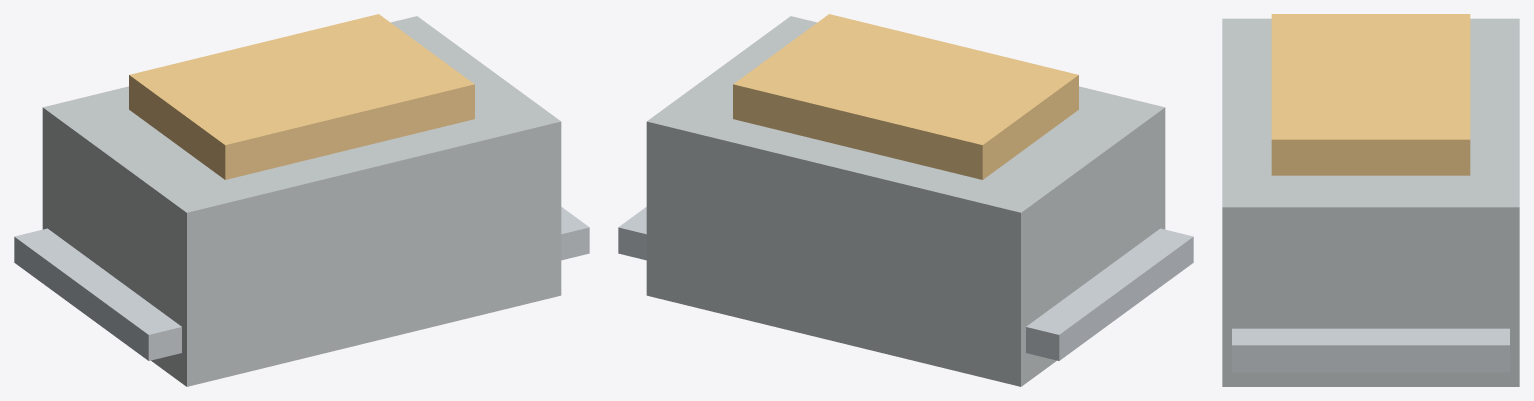
Rendered from 271_L121_LED1.glb.
3 renders of one model, left to right at view 1: azimuth 30°, elevation 25°; view 2: azimuth 150°, elevation 25°; view 3: azimuth 270°, elevation 25°, orthographic. The views are drawn at different scales.
Parts seen in each view (by area): view 1: connector_white__PSMAT__connector_white, led_amber__PSMAT__led_amber, tin__PSMAT__tin; view 2: connector_white__PSMAT__connector_white, led_amber__PSMAT__led_amber, tin__PSMAT__tin; view 3: connector_white__PSMAT__connector_white, led_amber__PSMAT__led_amber, tin__PSMAT__tin.
Part boxes in pixels (left/top/right/bottom): connector_white__PSMAT__connector_white: left=42, top=16, right=561, bottom=386; led_amber__PSMAT__led_amber: left=129, top=14, right=474, bottom=179; tin__PSMAT__tin: left=14, top=207, right=589, bottom=360; connector_white__PSMAT__connector_white: left=646, top=16, right=1165, bottom=386; led_amber__PSMAT__led_amber: left=733, top=14, right=1078, bottom=179; tin__PSMAT__tin: left=618, top=207, right=1193, bottom=360; connector_white__PSMAT__connector_white: left=1222, top=18, right=1519, bottom=386; led_amber__PSMAT__led_amber: left=1271, top=14, right=1470, bottom=175; tin__PSMAT__tin: left=1232, top=328, right=1509, bottom=372.
Bounding box in the file's own units: 0.0053 × 0.0024 × 0.003.
